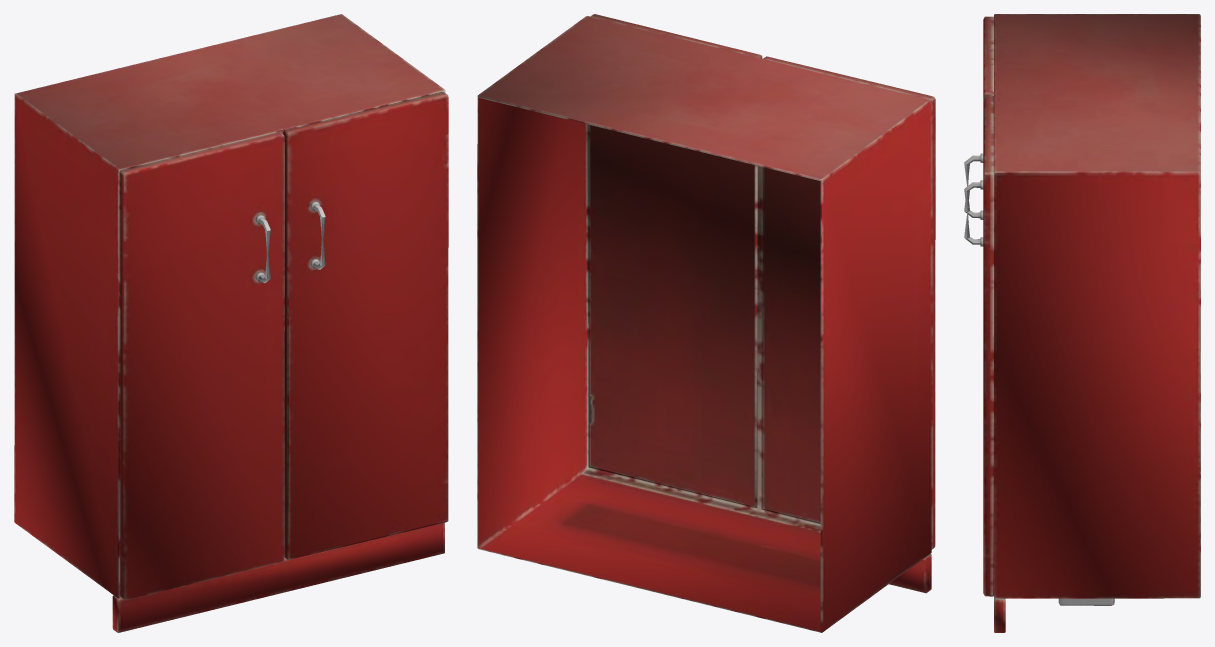
Rendered from kit_upper_60_light_red-low.glb.
3 renders of one model, left to right at view 1: azimuth 30°, elevation 25°; view 2: azimuth 150°, elevation 25°; view 3: azimuth 270°, elevation 25°, orthographic. The views are drawn at different scales.
Visible parts, largest first — view 1: kit_upper_60_light_red-low; view 2: kit_upper_60_light_red-low; view 3: kit_upper_60_light_red-low.
Part boxes in pixels (x1,y1,x2,y2): kit_upper_60_light_red-low: (14, 14, 448, 632); kit_upper_60_light_red-low: (477, 14, 935, 632); kit_upper_60_light_red-low: (964, 14, 1200, 632).
Bounding box in the file's own units: 0.5969 × 0.8088 × 0.3767.
1 material, 1 textured.
